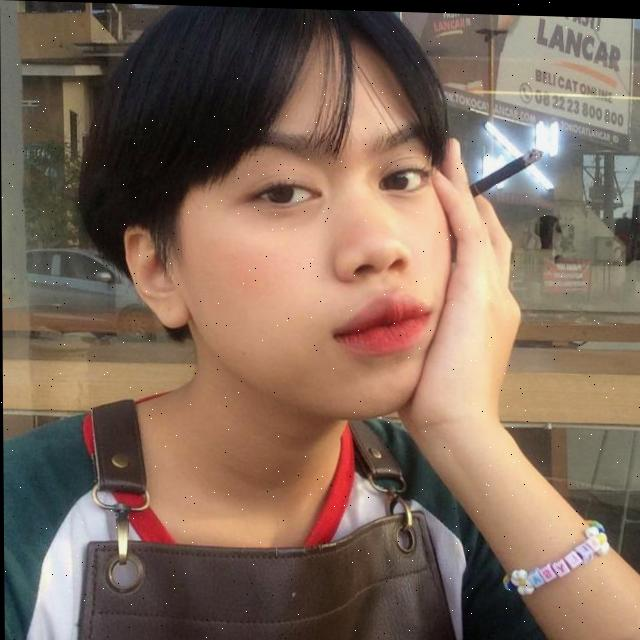cigarette: (473, 145, 543, 195)
